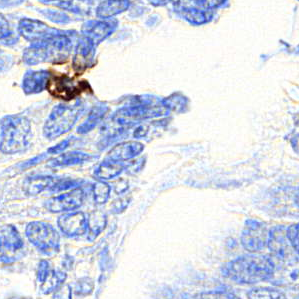Lymphocyte: (45, 71, 93, 97)
